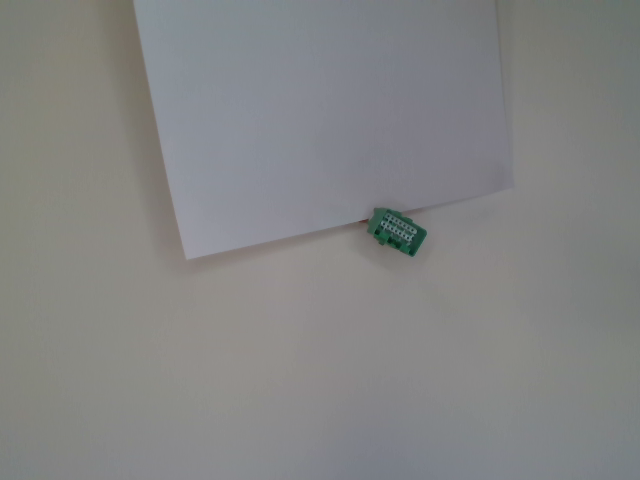green_large: (358, 208, 427, 257)
